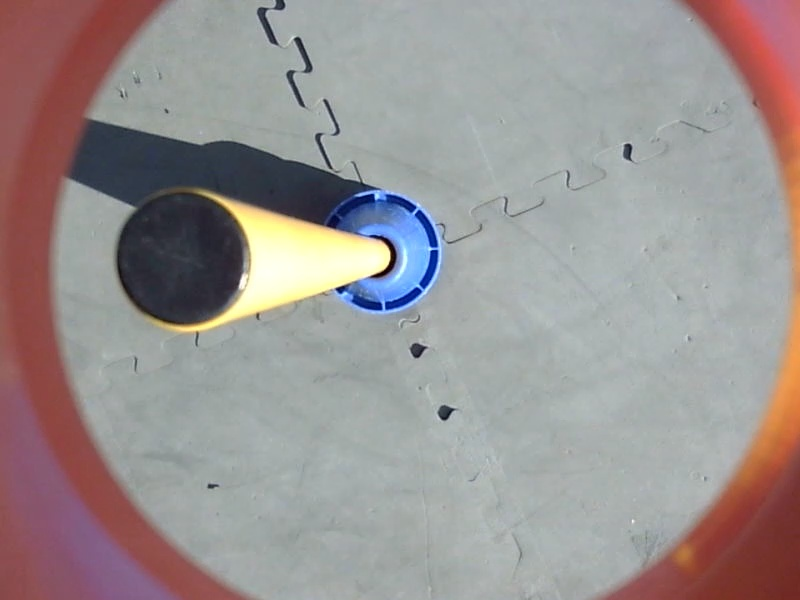tip: (109, 177, 263, 336)
